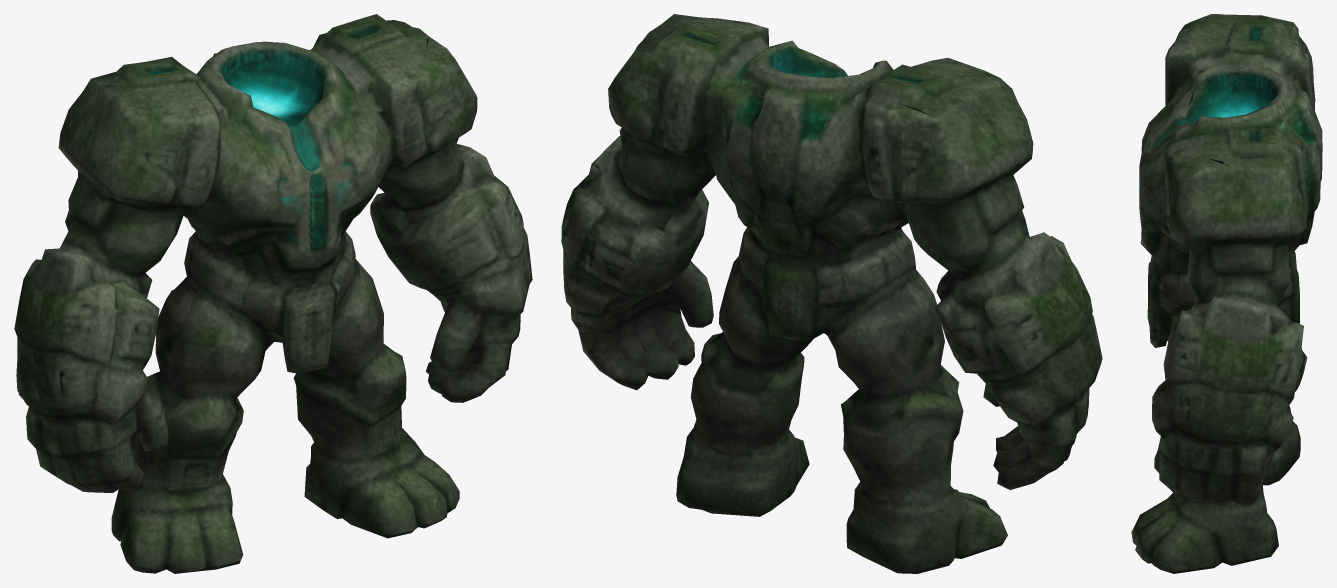
The model's file is vaal_construct_v1.glb.
The picture shows the model from 3 angles, left to right: view 1: azimuth 30°, elevation 25°; view 2: azimuth 150°, elevation 25°; view 3: azimuth 270°, elevation 25°; orthographic projection. The views are drawn at different scales.
Parts seen in each view (by area): view 1: vaal-construct-m0q-4000; view 2: vaal-construct-m0q-4000; view 3: vaal-construct-m0q-4000.
Boxes of the visible parts, bbox=[...] form: vaal-construct-m0q-4000: bbox=[14, 14, 532, 573]; vaal-construct-m0q-4000: bbox=[561, 14, 1102, 573]; vaal-construct-m0q-4000: bbox=[1131, 14, 1322, 573].
Bounding box in the file's own units: 1 × 0.9107 × 0.3655.
1 material, 1 textured.
